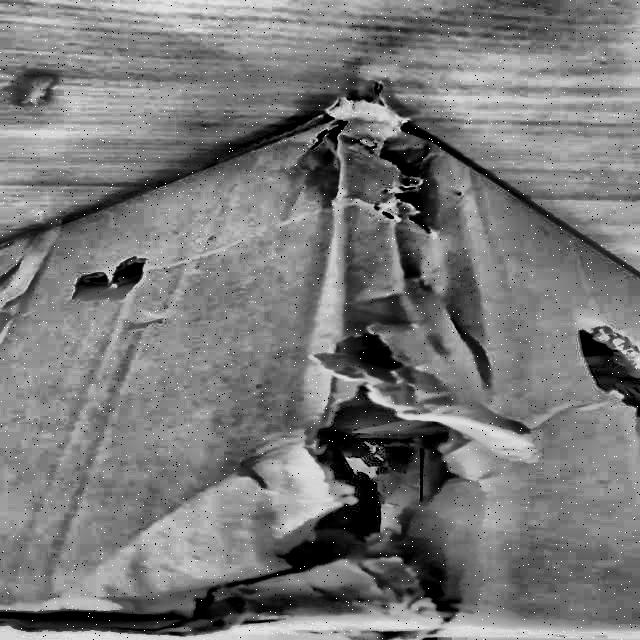box: (1, 80, 640, 640)
hole: (267, 334, 525, 619), (299, 111, 440, 233), (568, 327, 640, 412), (50, 259, 162, 301)
